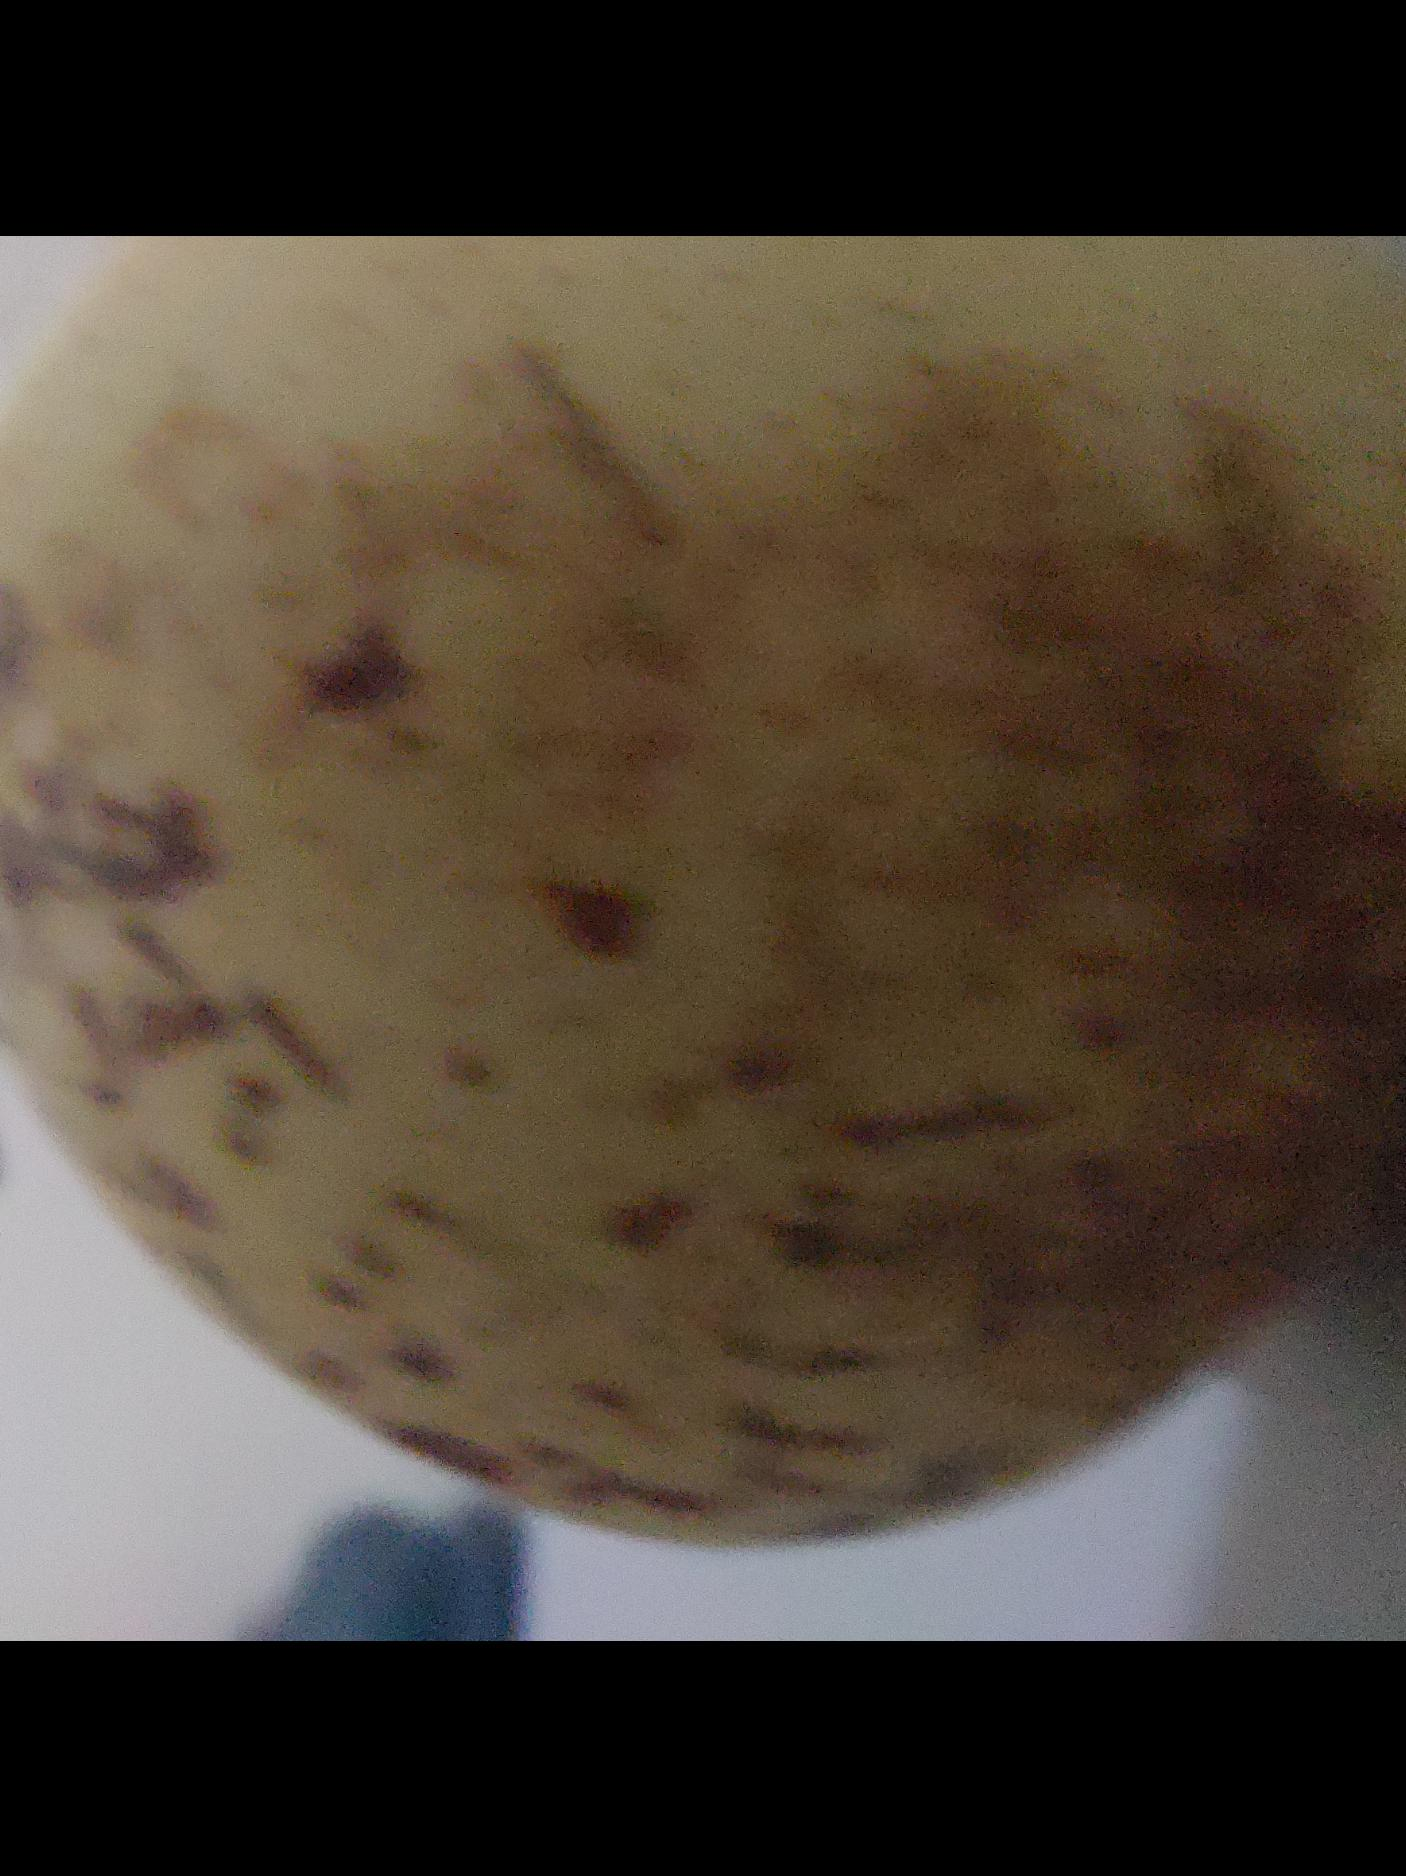Bad Pear: (0, 235, 1406, 1548)
